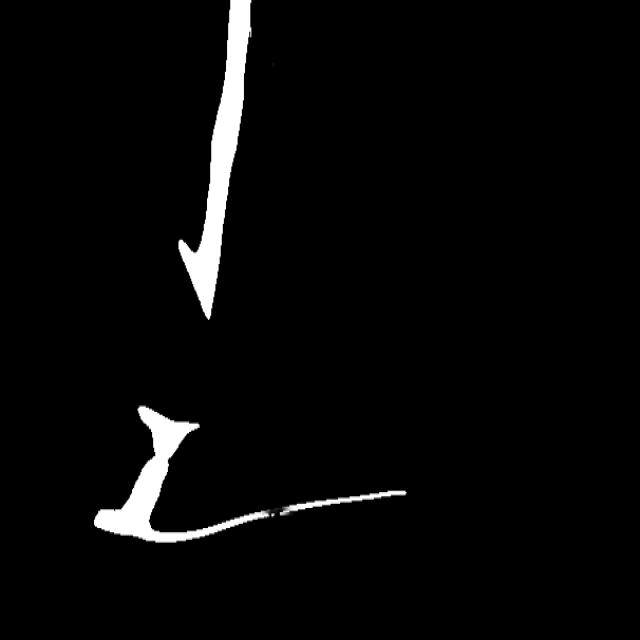inf: (263, 501, 290, 524)
